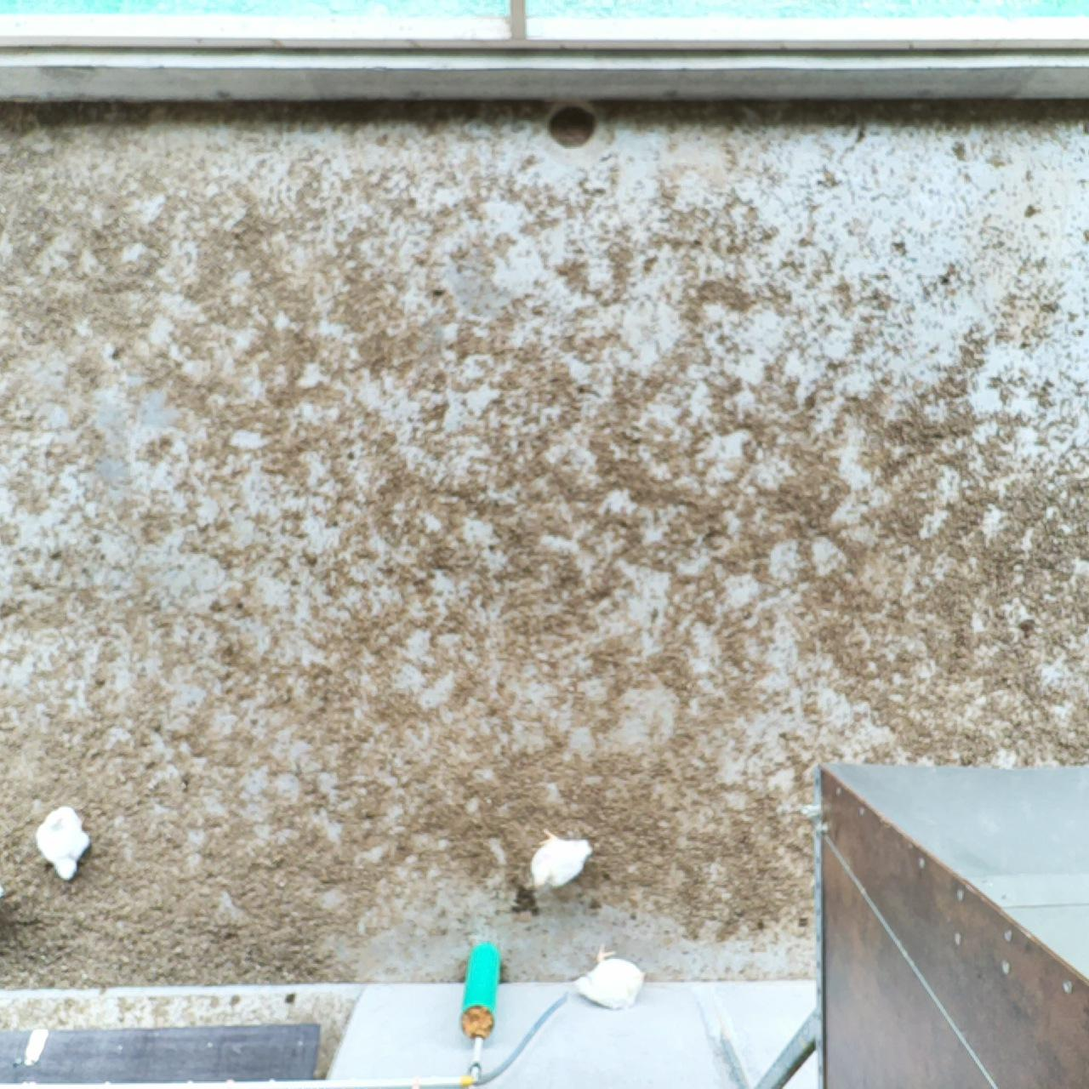chicken: (32, 801, 96, 881), (576, 944, 649, 1008), (529, 827, 600, 889)
